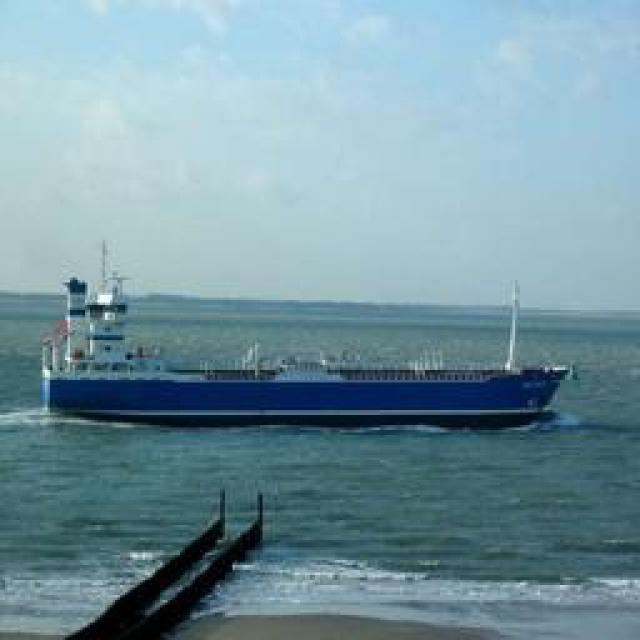Ship: (31, 259, 581, 432)
